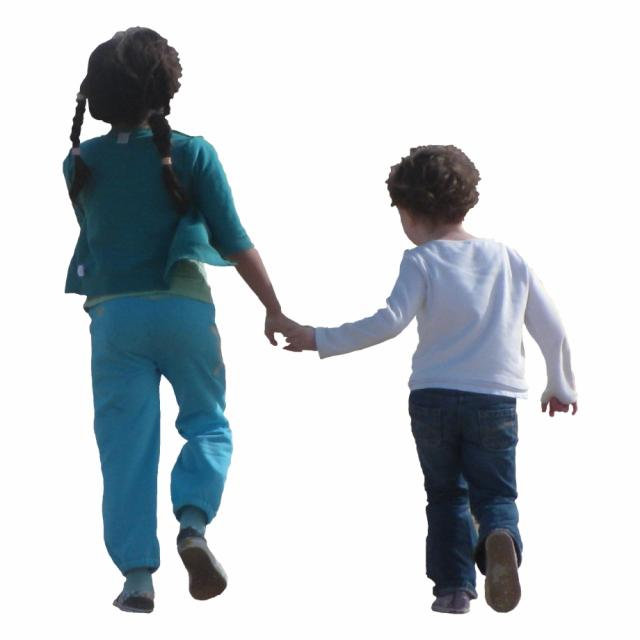child: (292, 138, 586, 612), (62, 19, 293, 620)
